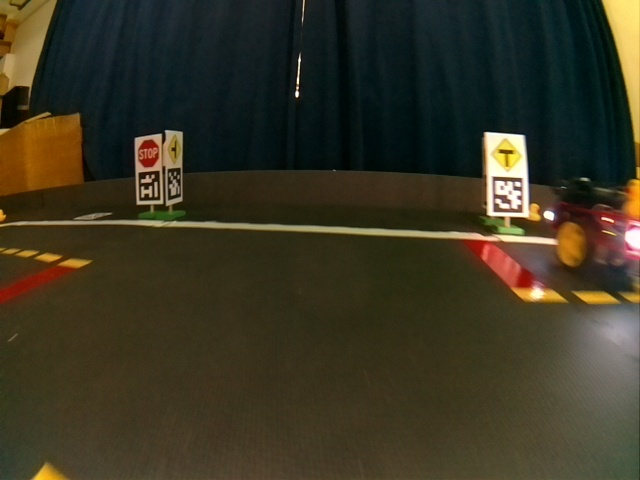Duckie: (530, 204, 541, 220)
Duckiebot: (555, 178, 638, 272)
Intersection sign: (488, 135, 524, 172), (165, 132, 182, 163)
QR code: (492, 177, 527, 212), (139, 172, 157, 203), (167, 167, 180, 201), (75, 212, 111, 221)
Stop sign: (136, 137, 161, 167)
